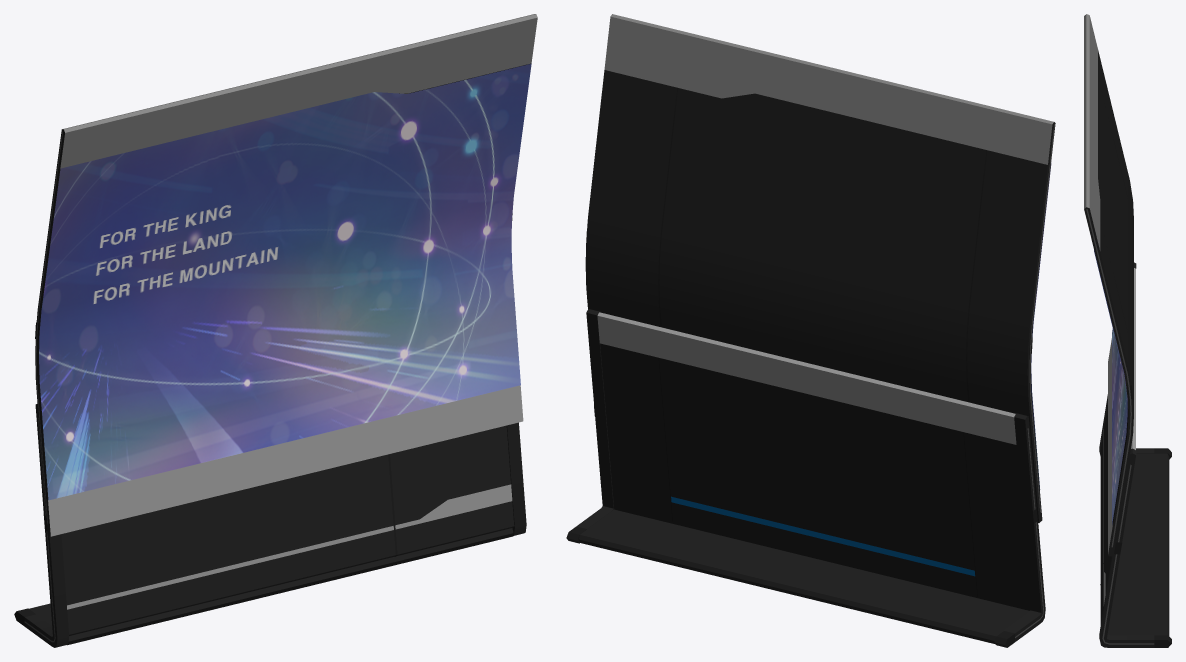
The model's file is W_O_Wall_002_L1.fbx.
The picture shows the model from 3 angles, left to right: view 1: azimuth 30°, elevation 25°; view 2: azimuth 150°, elevation 25°; view 3: azimuth 270°, elevation 25°; orthographic projection. The views are drawn at different scales.
Visible parts, largest first — view 1: W_O_Wall_002_L1; view 2: W_O_Wall_002_L1; view 3: W_O_Wall_002_L1.
Boxes of the visible parts, bbox=[...] form: W_O_Wall_002_L1: bbox=[14, 14, 537, 647]; W_O_Wall_002_L1: bbox=[566, 14, 1055, 647]; W_O_Wall_002_L1: bbox=[1084, 14, 1171, 647].
Size of the model in its own units: 5.03 by 5.36 by 0.9651.
